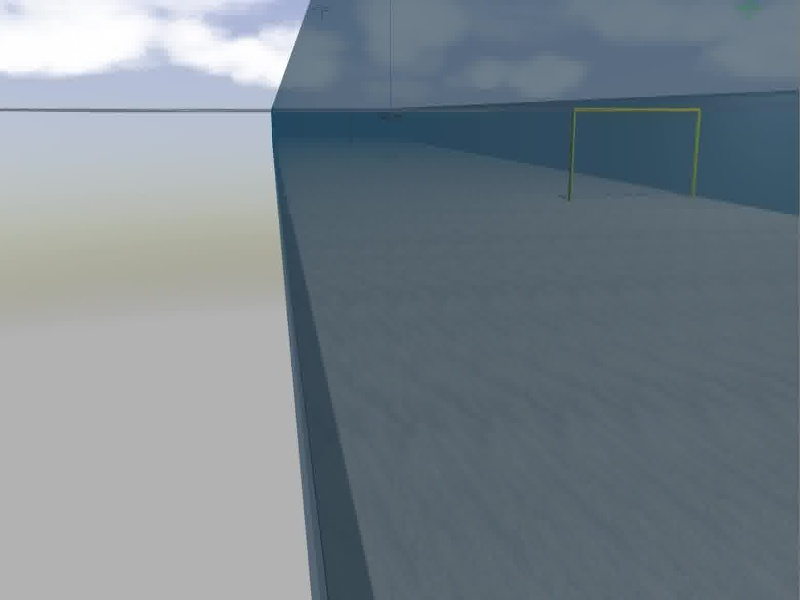gate: (564, 104, 701, 202)
